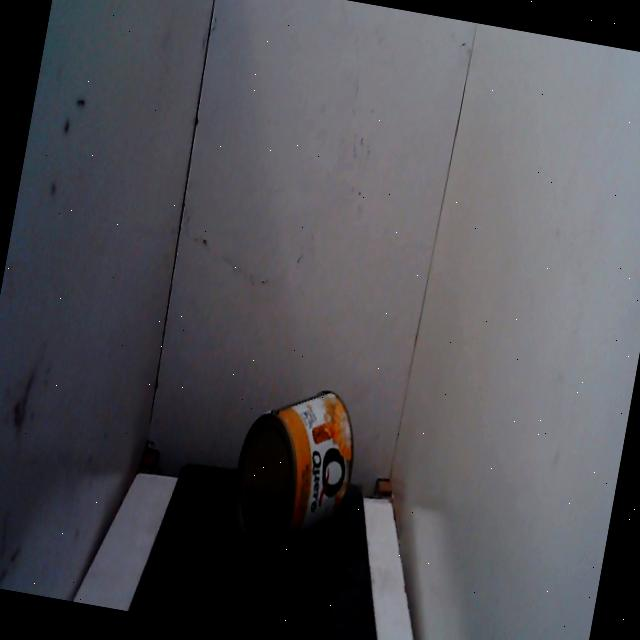metal: (215, 365, 371, 580)
